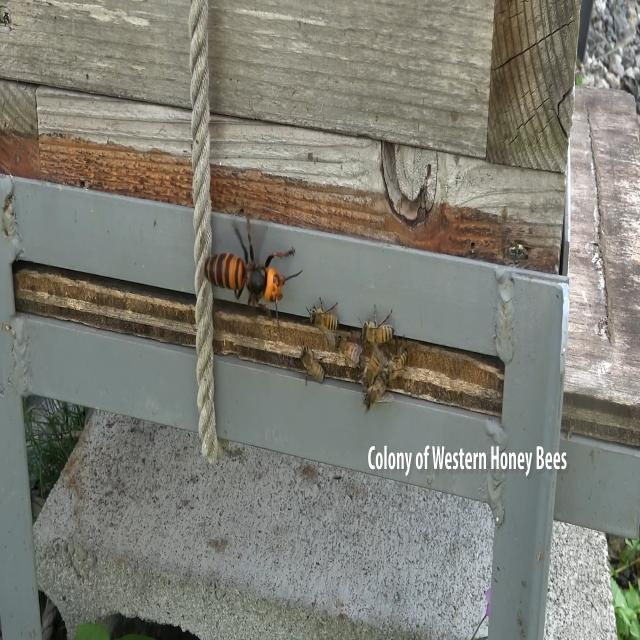Bees: (299, 294, 342, 344), (356, 302, 395, 351), (296, 339, 330, 392), (382, 334, 410, 386), (334, 324, 362, 372), (360, 372, 390, 415), (361, 346, 383, 391)
Hornets: (203, 214, 303, 344)
